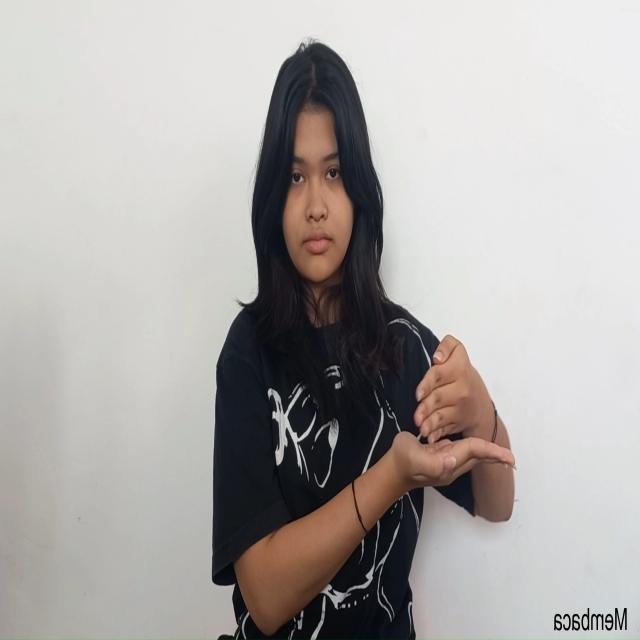Membaca -BISINDO-: (392, 334, 517, 506)
